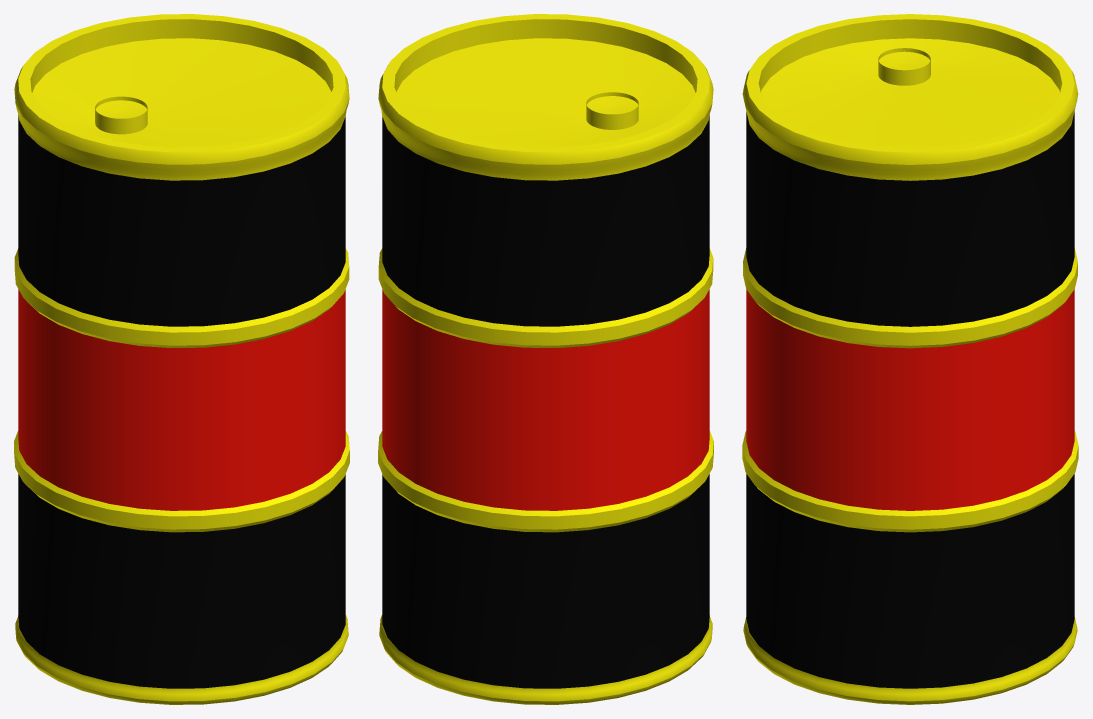
File: Drum.fbx
3 views of the same model, side by side, from view 1: azimuth 30°, elevation 25°; view 2: azimuth 150°, elevation 25°; view 3: azimuth 270°, elevation 25° (orthographic).
Visible parts, largest first — view 1: Cylinder; view 2: Cylinder; view 3: Cylinder.
Boxes of the visible parts, bbox=[...] form: Cylinder: bbox=[14, 14, 349, 704]; Cylinder: bbox=[378, 14, 713, 704]; Cylinder: bbox=[742, 14, 1078, 704].
Size of the model in its own units: 192 by 348 by 192.
